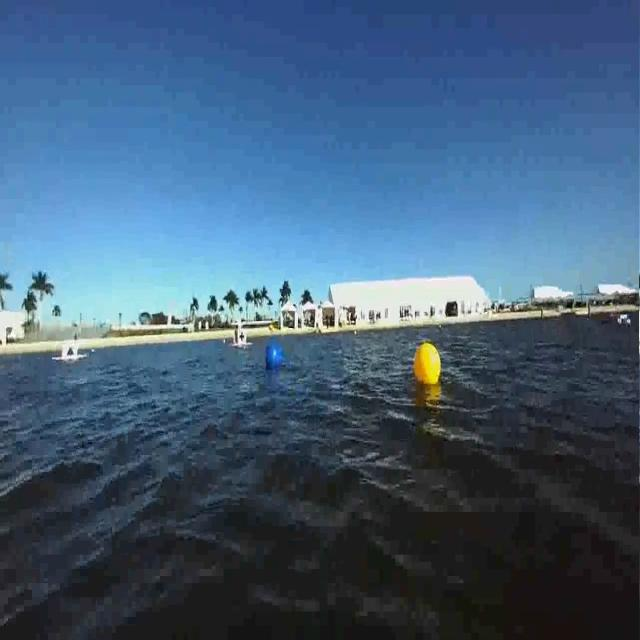blue-buoy: (259, 337, 287, 371)
yellow-buoy: (407, 347, 445, 398)
